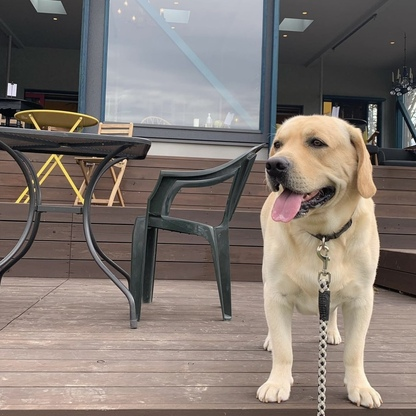labrado: (252, 106, 387, 411)
